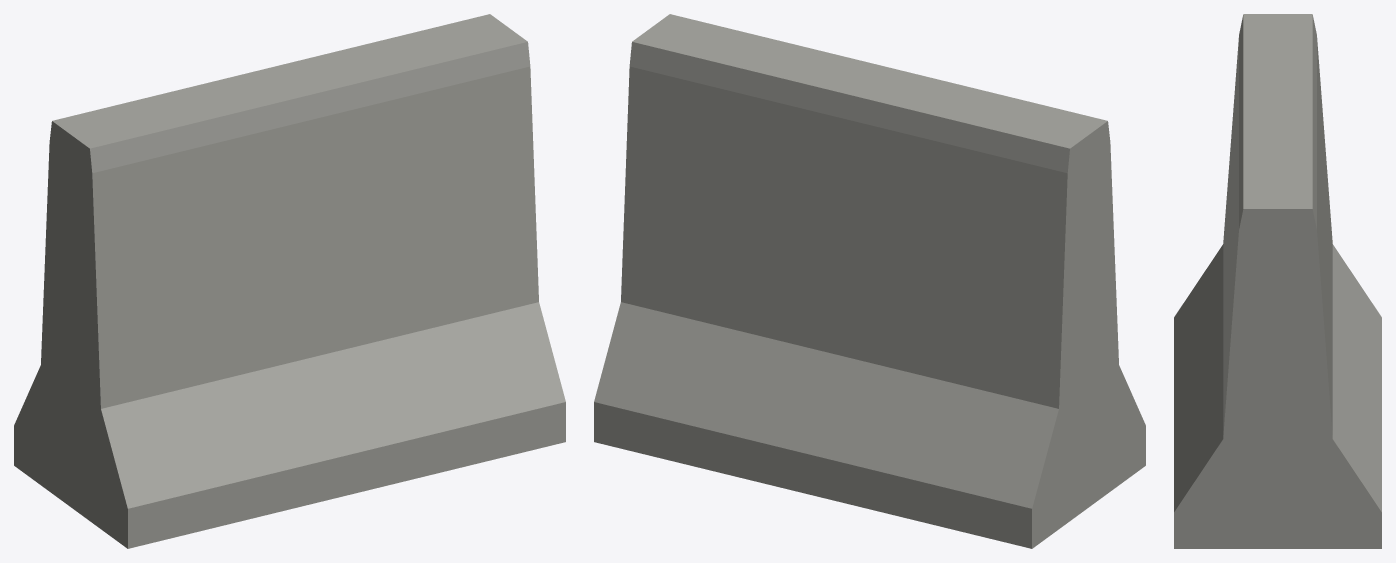
The model's file is workzone_concrete_barrier_inv.obj.
3 renders of one model, left to right at view 1: azimuth 30°, elevation 25°; view 2: azimuth 150°, elevation 25°; view 3: azimuth 270°, elevation 25°, orthographic. The views are drawn at different scales.
Parts seen in each view (by area): view 1: workzone_concrete_barrier_inv; view 2: workzone_concrete_barrier_inv; view 3: workzone_concrete_barrier_inv.
Boxes of the visible parts, left/top/right/bottom form: workzone_concrete_barrier_inv: left=14, top=14, right=565, bottom=548; workzone_concrete_barrier_inv: left=594, top=14, right=1145, bottom=548; workzone_concrete_barrier_inv: left=1174, top=14, right=1381, bottom=548.
Bounding box in the file's own units: 1 × 0.8125 × 0.45.
